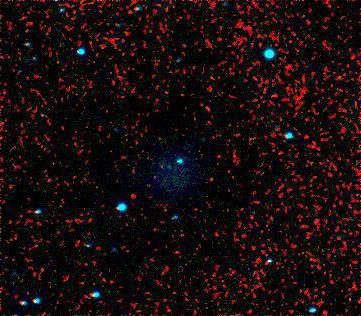star: (120, 181, 150, 211)
